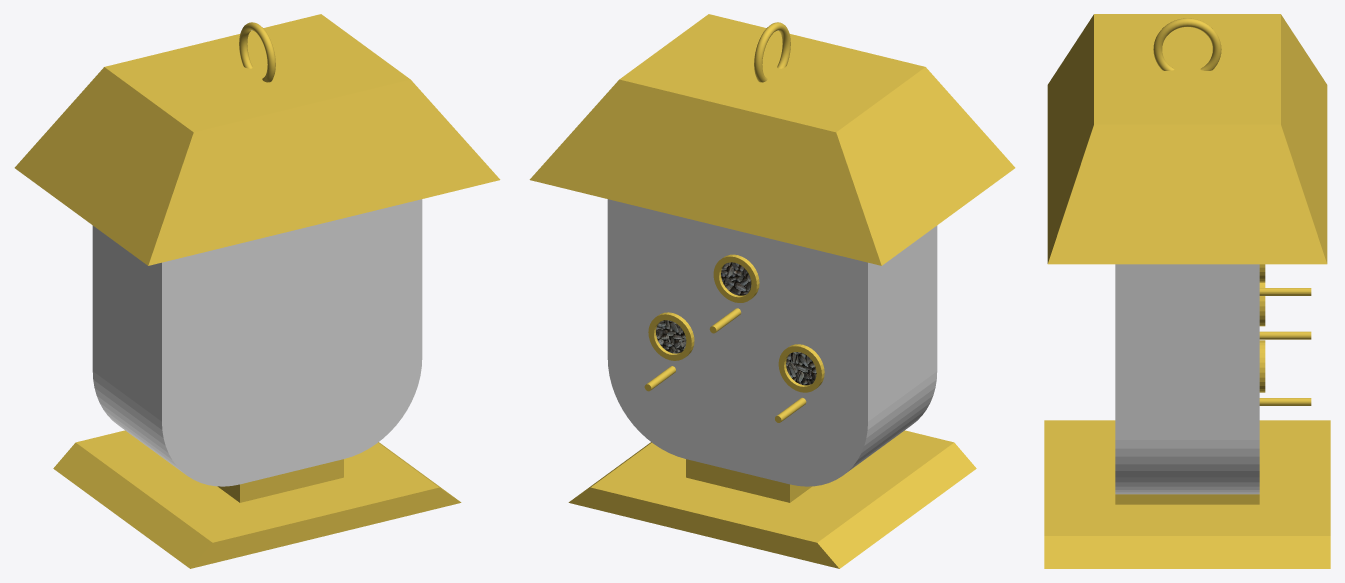
Rendered from Bird Feeder 2.fbx.
3 renders of one model, left to right at view 1: azimuth 30°, elevation 25°; view 2: azimuth 150°, elevation 25°; view 3: azimuth 270°, elevation 25°, orthographic. The views are drawn at different scales.
Visible parts, largest first — view 1: Cube.011, Torus.003; view 2: Cube.011, Cylinder.029, Cylinder.031, Cylinder.033, Torus.003; view 3: Cube.011, Torus.003, Cylinder.034, Cylinder.030, Cylinder.032, Cylinder.031.
Boxes of the visible parts, x1,y1,x2,y2 form: Cube.011: [14, 14, 500, 568]; Torus.003: [239, 22, 275, 82]; Cube.011: [529, 14, 1015, 568]; Cylinder.029: [713, 254, 759, 302]; Cylinder.031: [648, 312, 694, 360]; Cylinder.033: [778, 344, 824, 392]; Torus.003: [754, 22, 790, 82]; Cube.011: [1044, 14, 1330, 568]; Torus.003: [1153, 18, 1221, 70]; Cylinder.034: [1259, 331, 1311, 339]; Cylinder.030: [1259, 288, 1311, 295]; Cylinder.032: [1259, 398, 1311, 405]; Cylinder.031: [1259, 340, 1265, 392].
Size of the model in its own units: 271 by 338 by 182.
